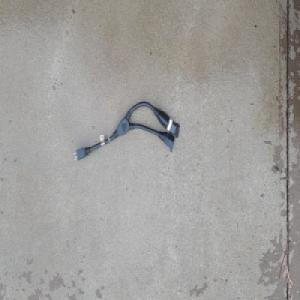Wire: (71, 99, 180, 162)
